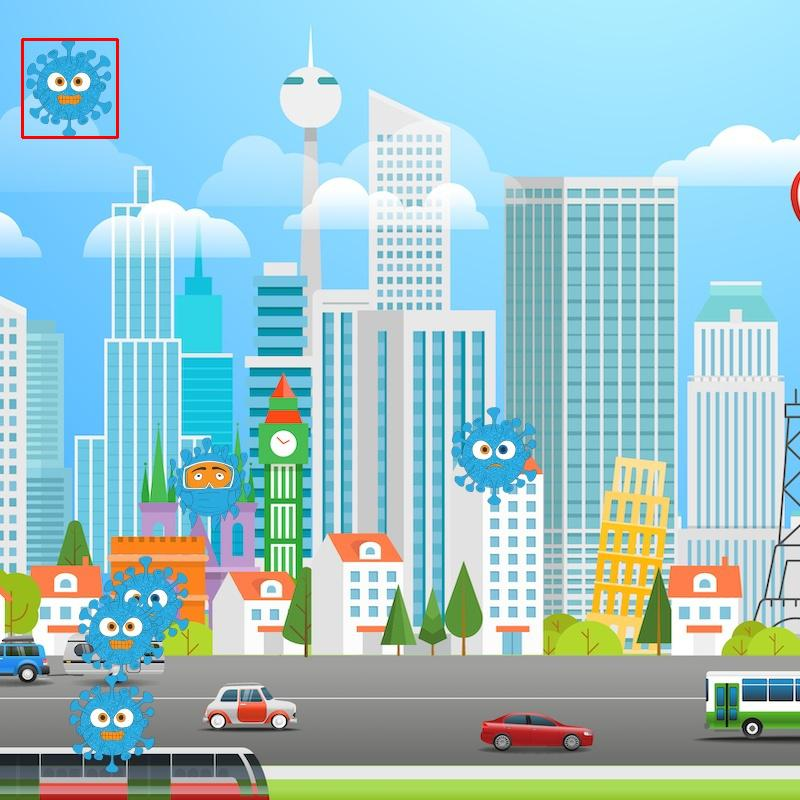corona1: (24, 41, 119, 135), (69, 685, 154, 767), (77, 595, 160, 678)
corona2: (456, 411, 539, 504), (109, 558, 187, 647)
doctor: (166, 428, 245, 528)
